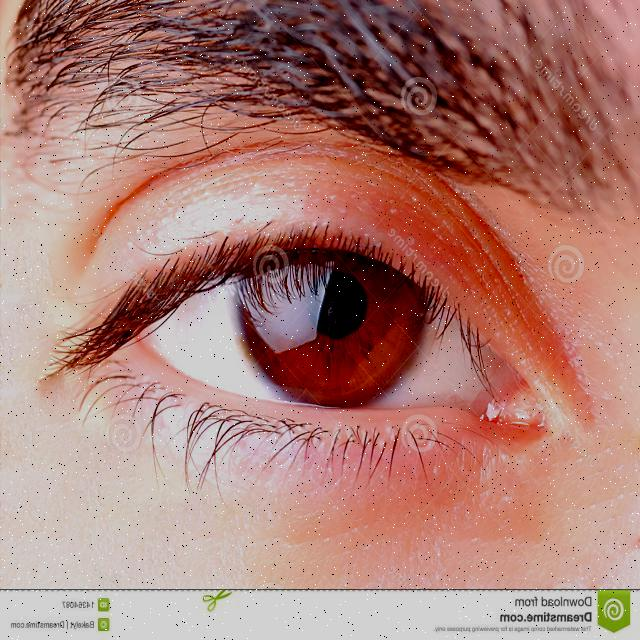Normal: (47, 135, 590, 472)
